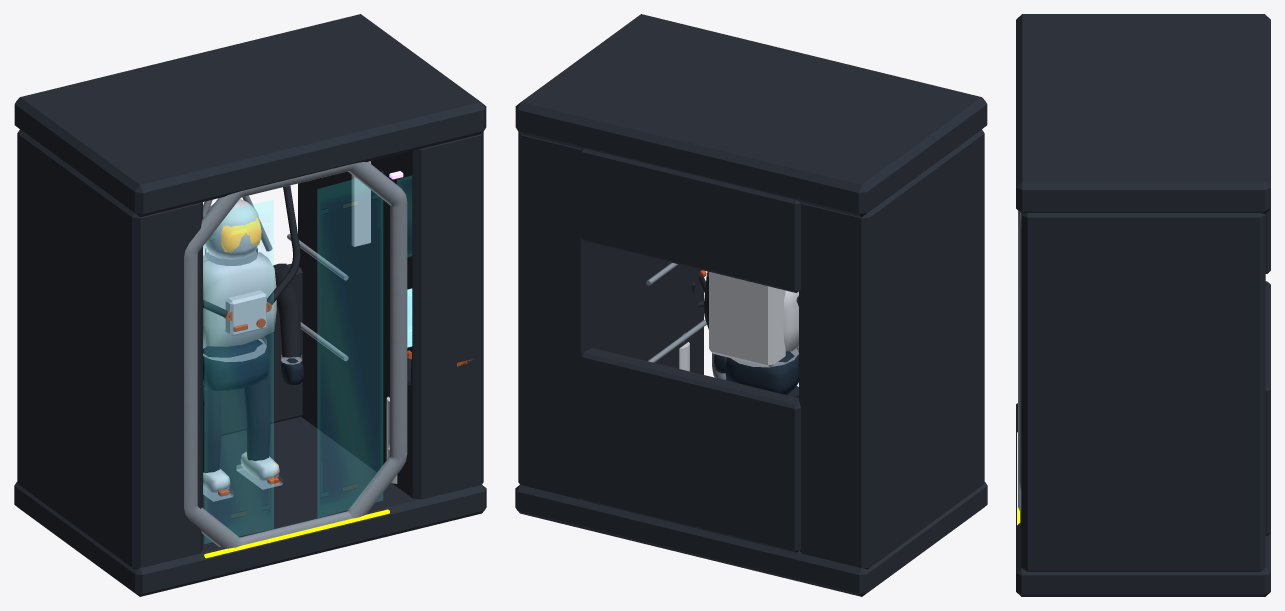
Rendered from eva_chamber_r1_04.glb.
3 renders of one model, left to right at view 1: azimuth 30°, elevation 25°; view 2: azimuth 150°, elevation 25°; view 3: azimuth 270°, elevation 25°, orthographic.
Parts seen in each view (by area): view 1: EVA04_HexBlowdownCarbonHull, EVA04_BiPartingHexTranslucentDoors, EVA04_MachinedHexFrameAndDonningRing, EVA04_WhiteSuitAndTanks, EVA04_CharcoalSleevesAndBooms, EVA04_NavySuitJoints, EVA04_AmberStepLED, EVA04_GoldIridiumVisors; view 2: EVA04_HexBlowdownCarbonHull, EVA04_WhiteSuitAndTanks, EVA04_NavySuitJoints, EVA04_MachinedHexFrameAndDonningRing; view 3: EVA04_HexBlowdownCarbonHull, EVA04_MachinedHexFrameAndDonningRing.
Boxes of the visible parts, x1,y1,x2,y2 form: EVA04_HexBlowdownCarbonHull: (14, 14, 486, 596); EVA04_BiPartingHexTranslucentDoors: (205, 172, 411, 543); EVA04_MachinedHexFrameAndDonningRing: (184, 162, 407, 548); EVA04_WhiteSuitAndTanks: (203, 161, 397, 492); EVA04_CharcoalSleevesAndBooms: (203, 185, 411, 473); EVA04_NavySuitJoints: (203, 339, 303, 405); EVA04_AmberStepLED: (204, 509, 389, 558); EVA04_GoldIridiumVisors: (221, 217, 261, 252); EVA04_HexBlowdownCarbonHull: (515, 14, 987, 596); EVA04_WhiteSuitAndTanks: (679, 272, 798, 371); EVA04_NavySuitJoints: (714, 351, 798, 394); EVA04_MachinedHexFrameAndDonningRing: (646, 263, 798, 379); EVA04_HexBlowdownCarbonHull: (1016, 14, 1270, 596); EVA04_MachinedHexFrameAndDonningRing: (1018, 211, 1021, 511).
Size of the model in its own units: 2.28 by 2.55 by 1.42.
Materials: 12 (12 with a texture image).
